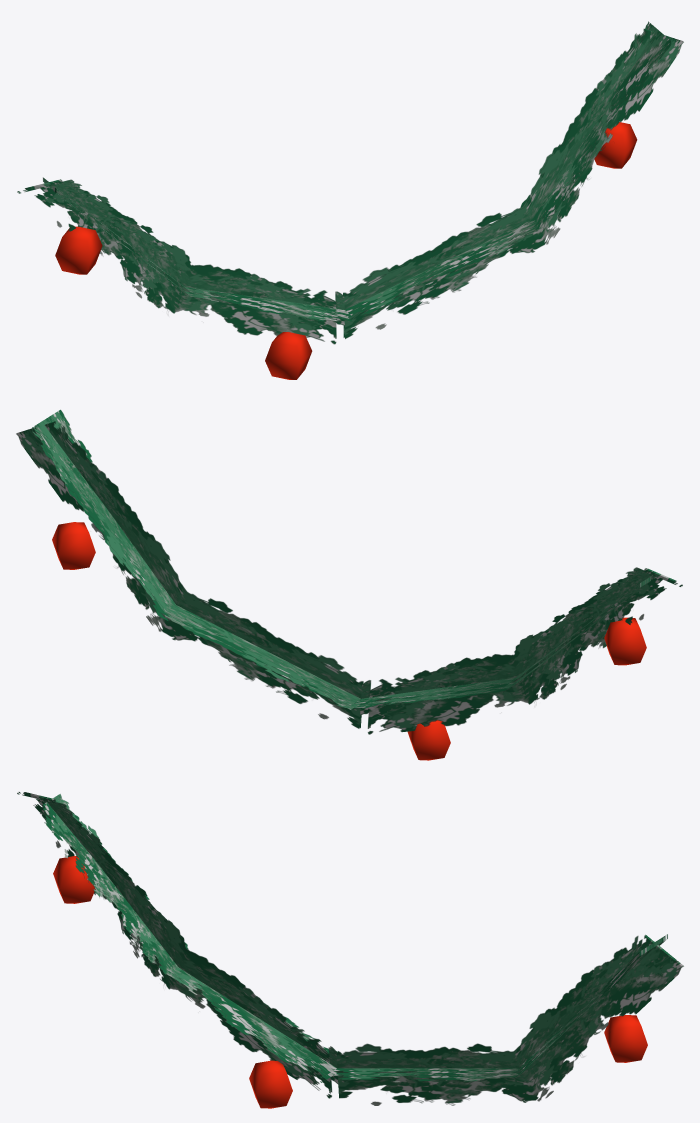
The model's file is Wreaths05.glb.
3 renders of one model, top to bottom at view 1: azimuth 30°, elevation 25°; view 2: azimuth 150°, elevation 25°; view 3: azimuth 330°, elevation 25°, orthographic.
Visible parts, largest first — view 1: Wreaths05; view 2: Wreaths05; view 3: Wreaths05.
Boxes of the visible parts, bbox=[...] form: Wreaths05: bbox=[17, 21, 683, 379]; Wreaths05: bbox=[16, 409, 682, 760]; Wreaths05: bbox=[17, 792, 683, 1108].
Size of the model in its own units: 4.46 by 1.68 by 0.4773.
2 materials, 2 textured.
